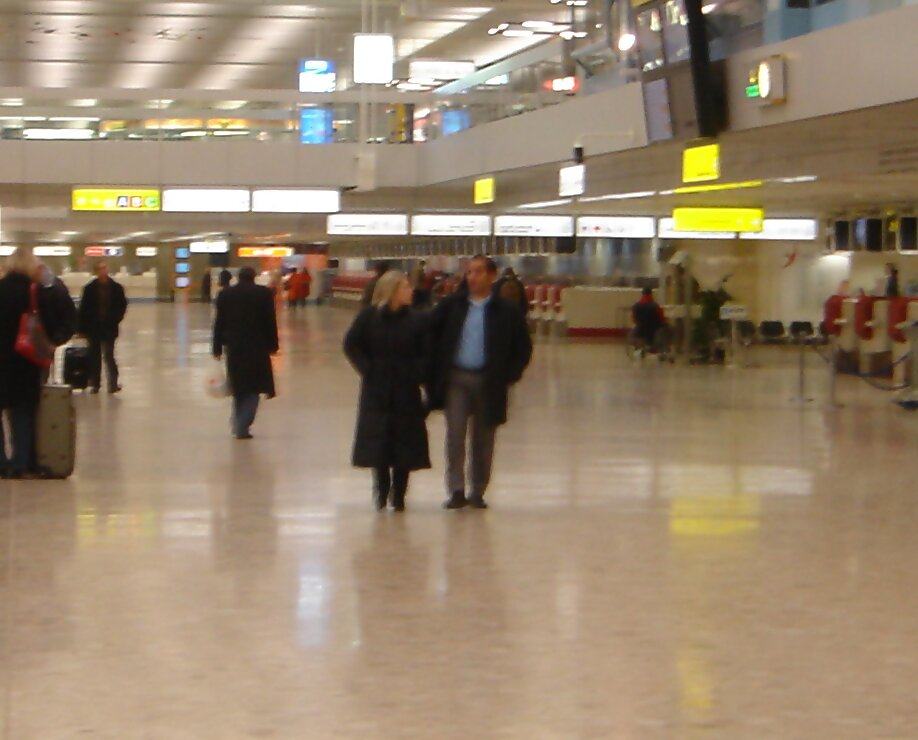person: (440, 257, 531, 513), (344, 260, 437, 508)
